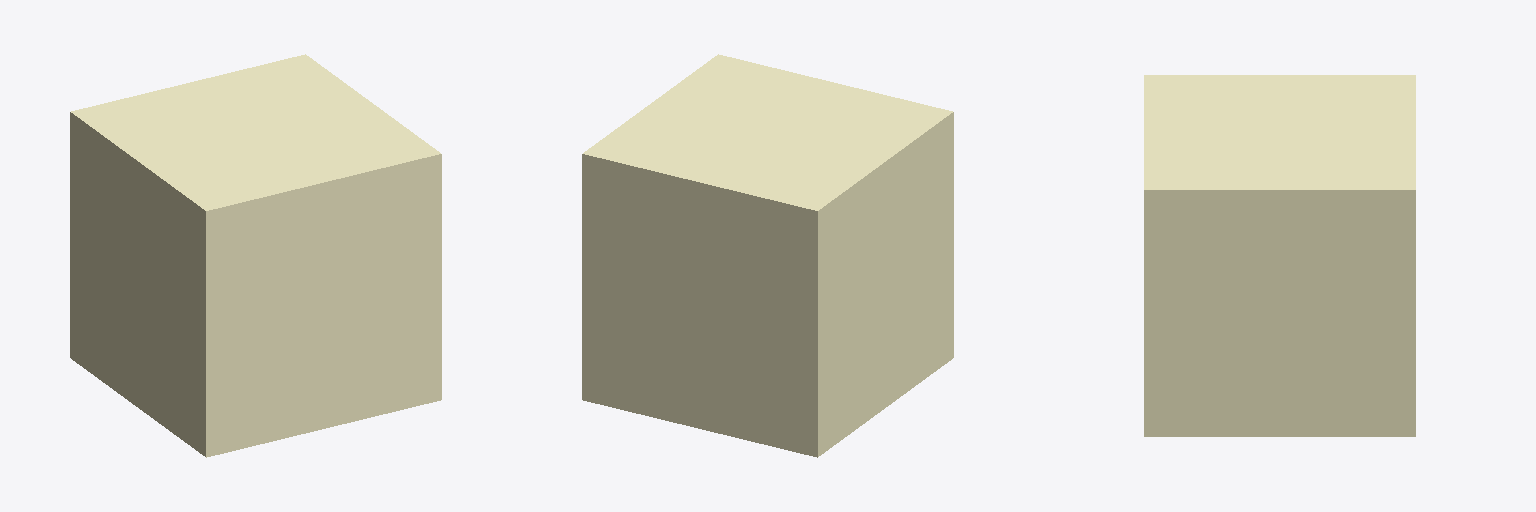
3 views of the same model, side by side, from view 1: azimuth 30°, elevation 25°; view 2: azimuth 150°, elevation 25°; view 3: azimuth 270°, elevation 25° (orthographic).
Visible parts, largest first — view 1: Cube; view 2: Cube; view 3: Cube.
Boxes of the visible parts, x1=… form: Cube: x1=70, y1=54, x2=441, y2=457; Cube: x1=582, y1=54, x2=953, y2=457; Cube: x1=1144, y1=75, x2=1415, y2=436.
Size of the model in its own units: 2 by 2 by 2.
1 materials, 1 textured.